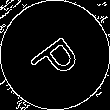P_NE: (24, 25, 86, 85)
